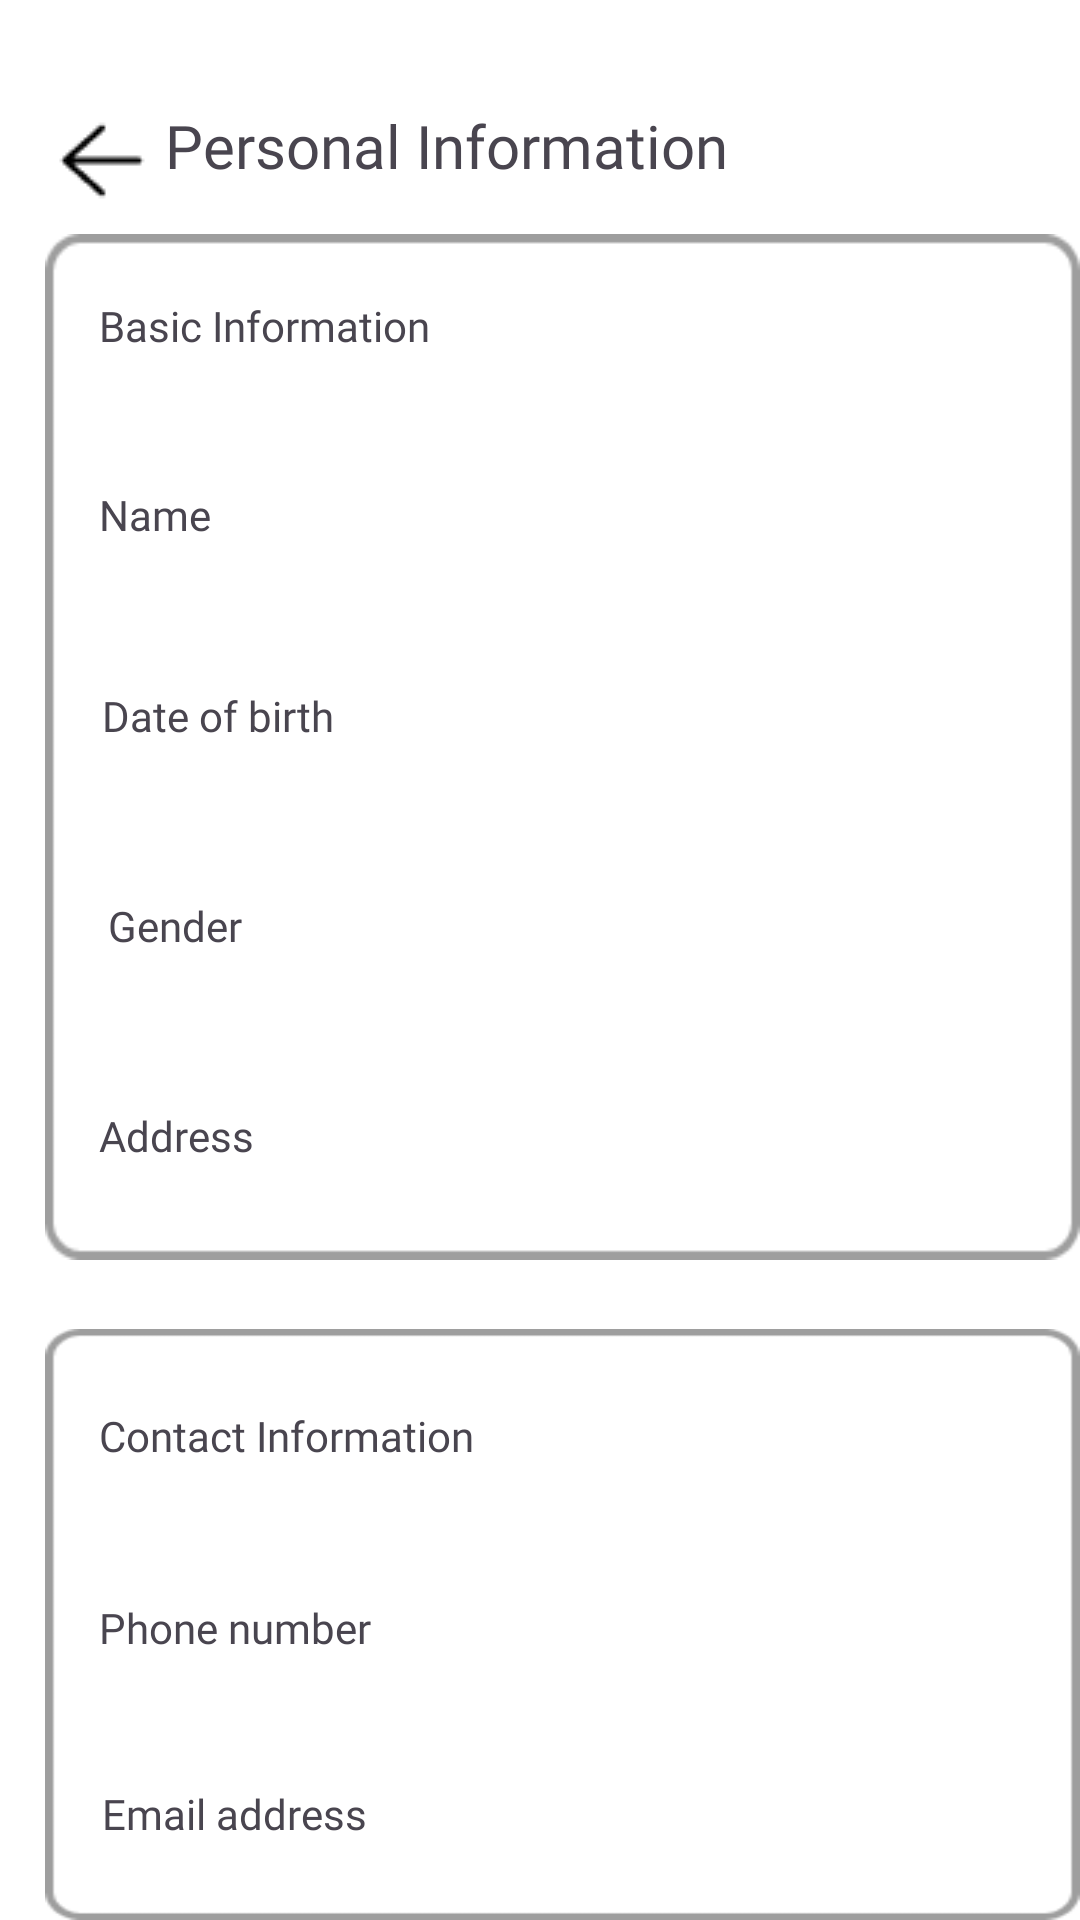

Icon bounding boxes for this 1080×1920 phone screenshot, format (x1, y1, x2, y2):
arrow: (60, 124, 144, 197)
